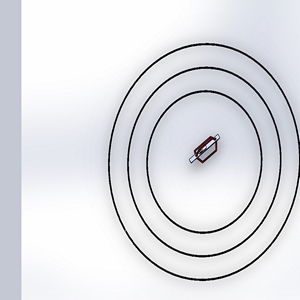circle: (106, 35, 299, 286)
submarine: (181, 129, 234, 177)
